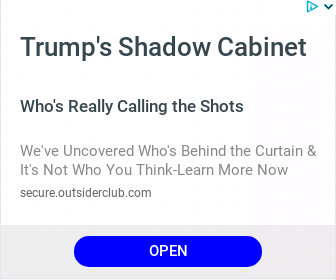fake_button: (69, 225, 267, 280)
